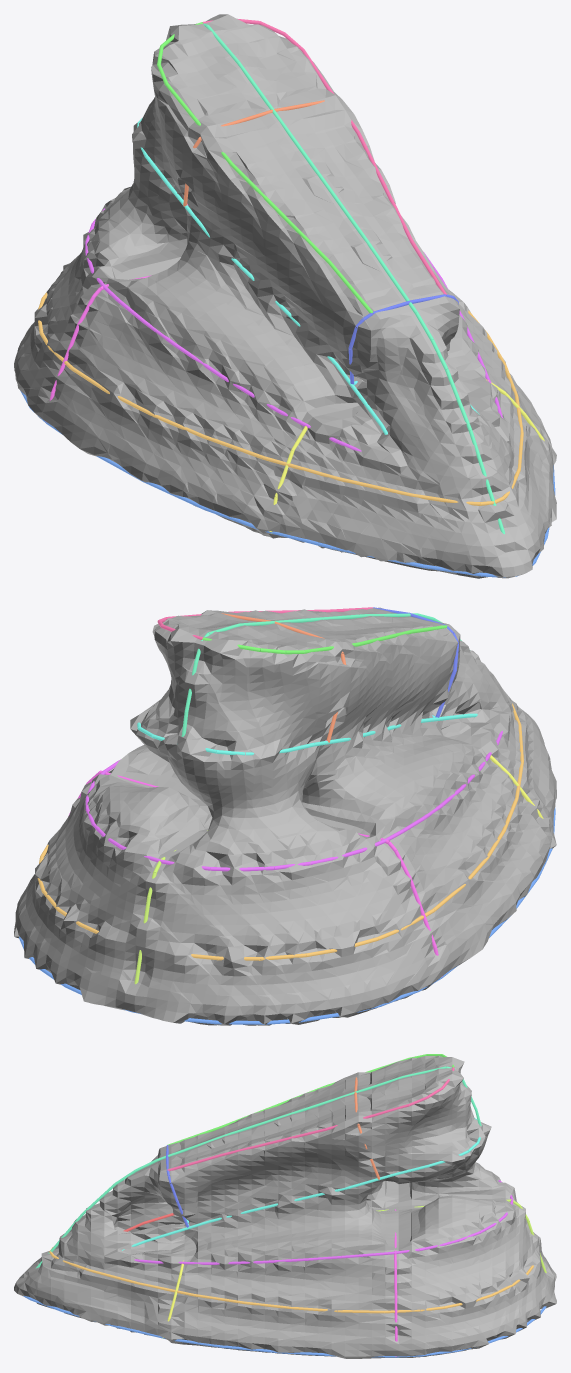
The model's file is t2f_iron.gltf.
3 views of the same model, one above another, from view 1: azimuth 30°, elevation 25°; view 2: azimuth 150°, elevation 25°; view 3: azimuth 270°, elevation 25° (orthographic). The views are drawn at different scales.
Size of the model in its own units: 0.4832 by 0.4167 by 0.8158.
